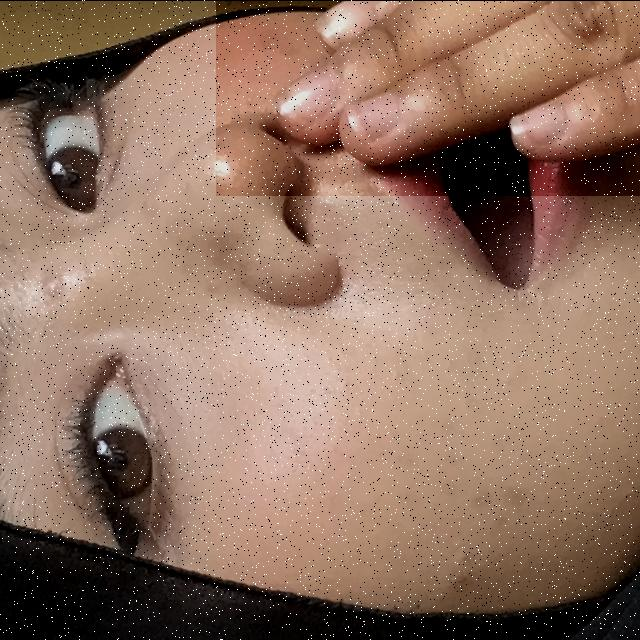ngantuk: (216, 0, 640, 195)
